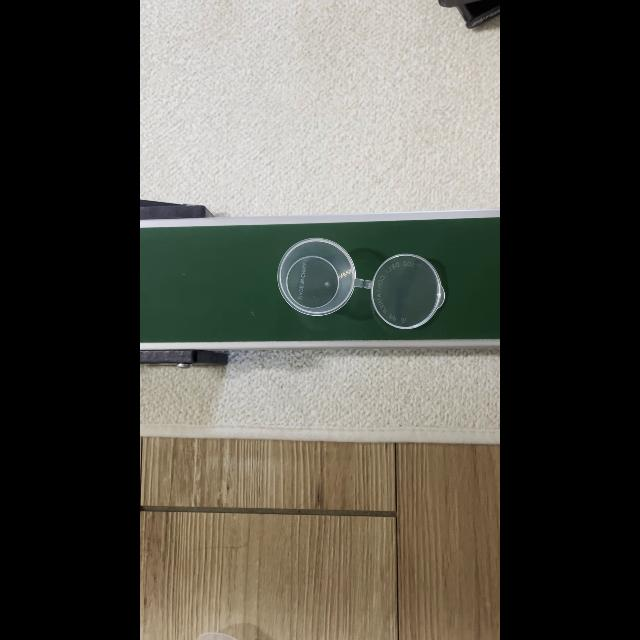clean: (282, 235, 352, 318), (376, 255, 436, 321)
